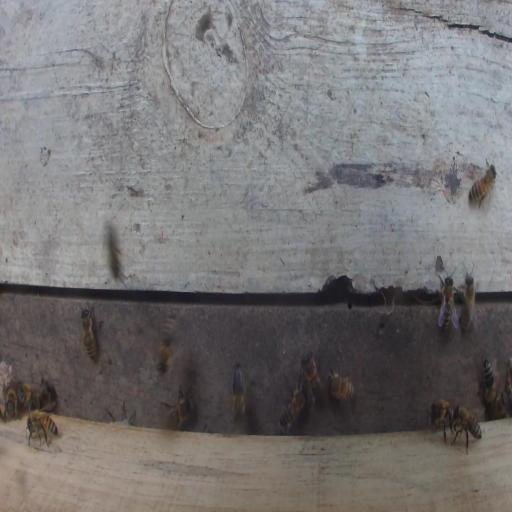nonpollenbee: (452, 404, 482, 454), (162, 384, 194, 430), (468, 161, 496, 210), (279, 384, 307, 432), (26, 409, 58, 449), (300, 350, 322, 408), (106, 223, 126, 282), (460, 266, 477, 334), (429, 398, 454, 443), (328, 366, 356, 404), (438, 274, 456, 331), (80, 305, 97, 363), (232, 362, 245, 421), (38, 374, 57, 412), (482, 357, 496, 405), (156, 335, 173, 373), (490, 391, 508, 419), (4, 387, 19, 420), (38, 409, 39, 410)
